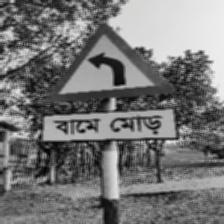Left-Turn: (41, 23, 178, 144)
